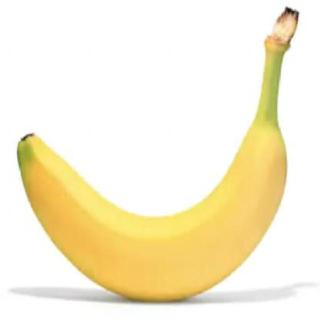banana: (17, 119, 290, 305)
